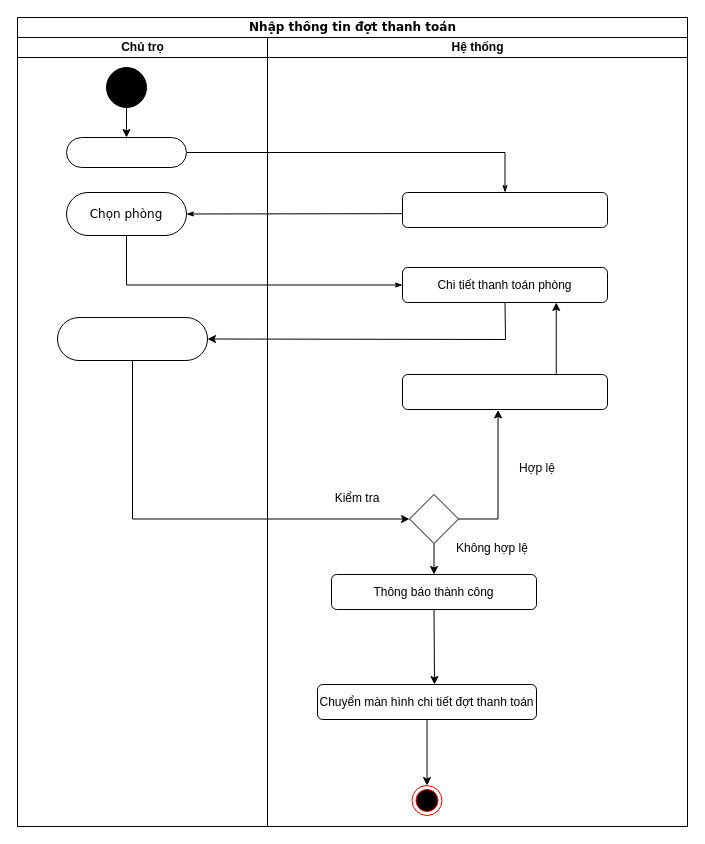
Image size: 705x844. Some labels were removed from this diagram. Each missing label, with the centre of its shape:
Chi tiết đợt thanh toán: point 505,210
Cập nhật dữ liệu: point 126,152
Nhập dữ liệu phòng: point 132,338
Thông báo lỗi: point 505,392
